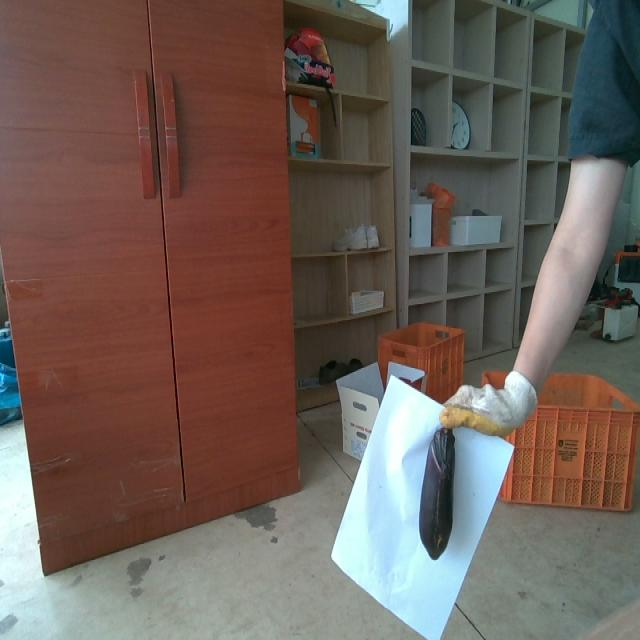Egg plant: (419, 428, 454, 559)
